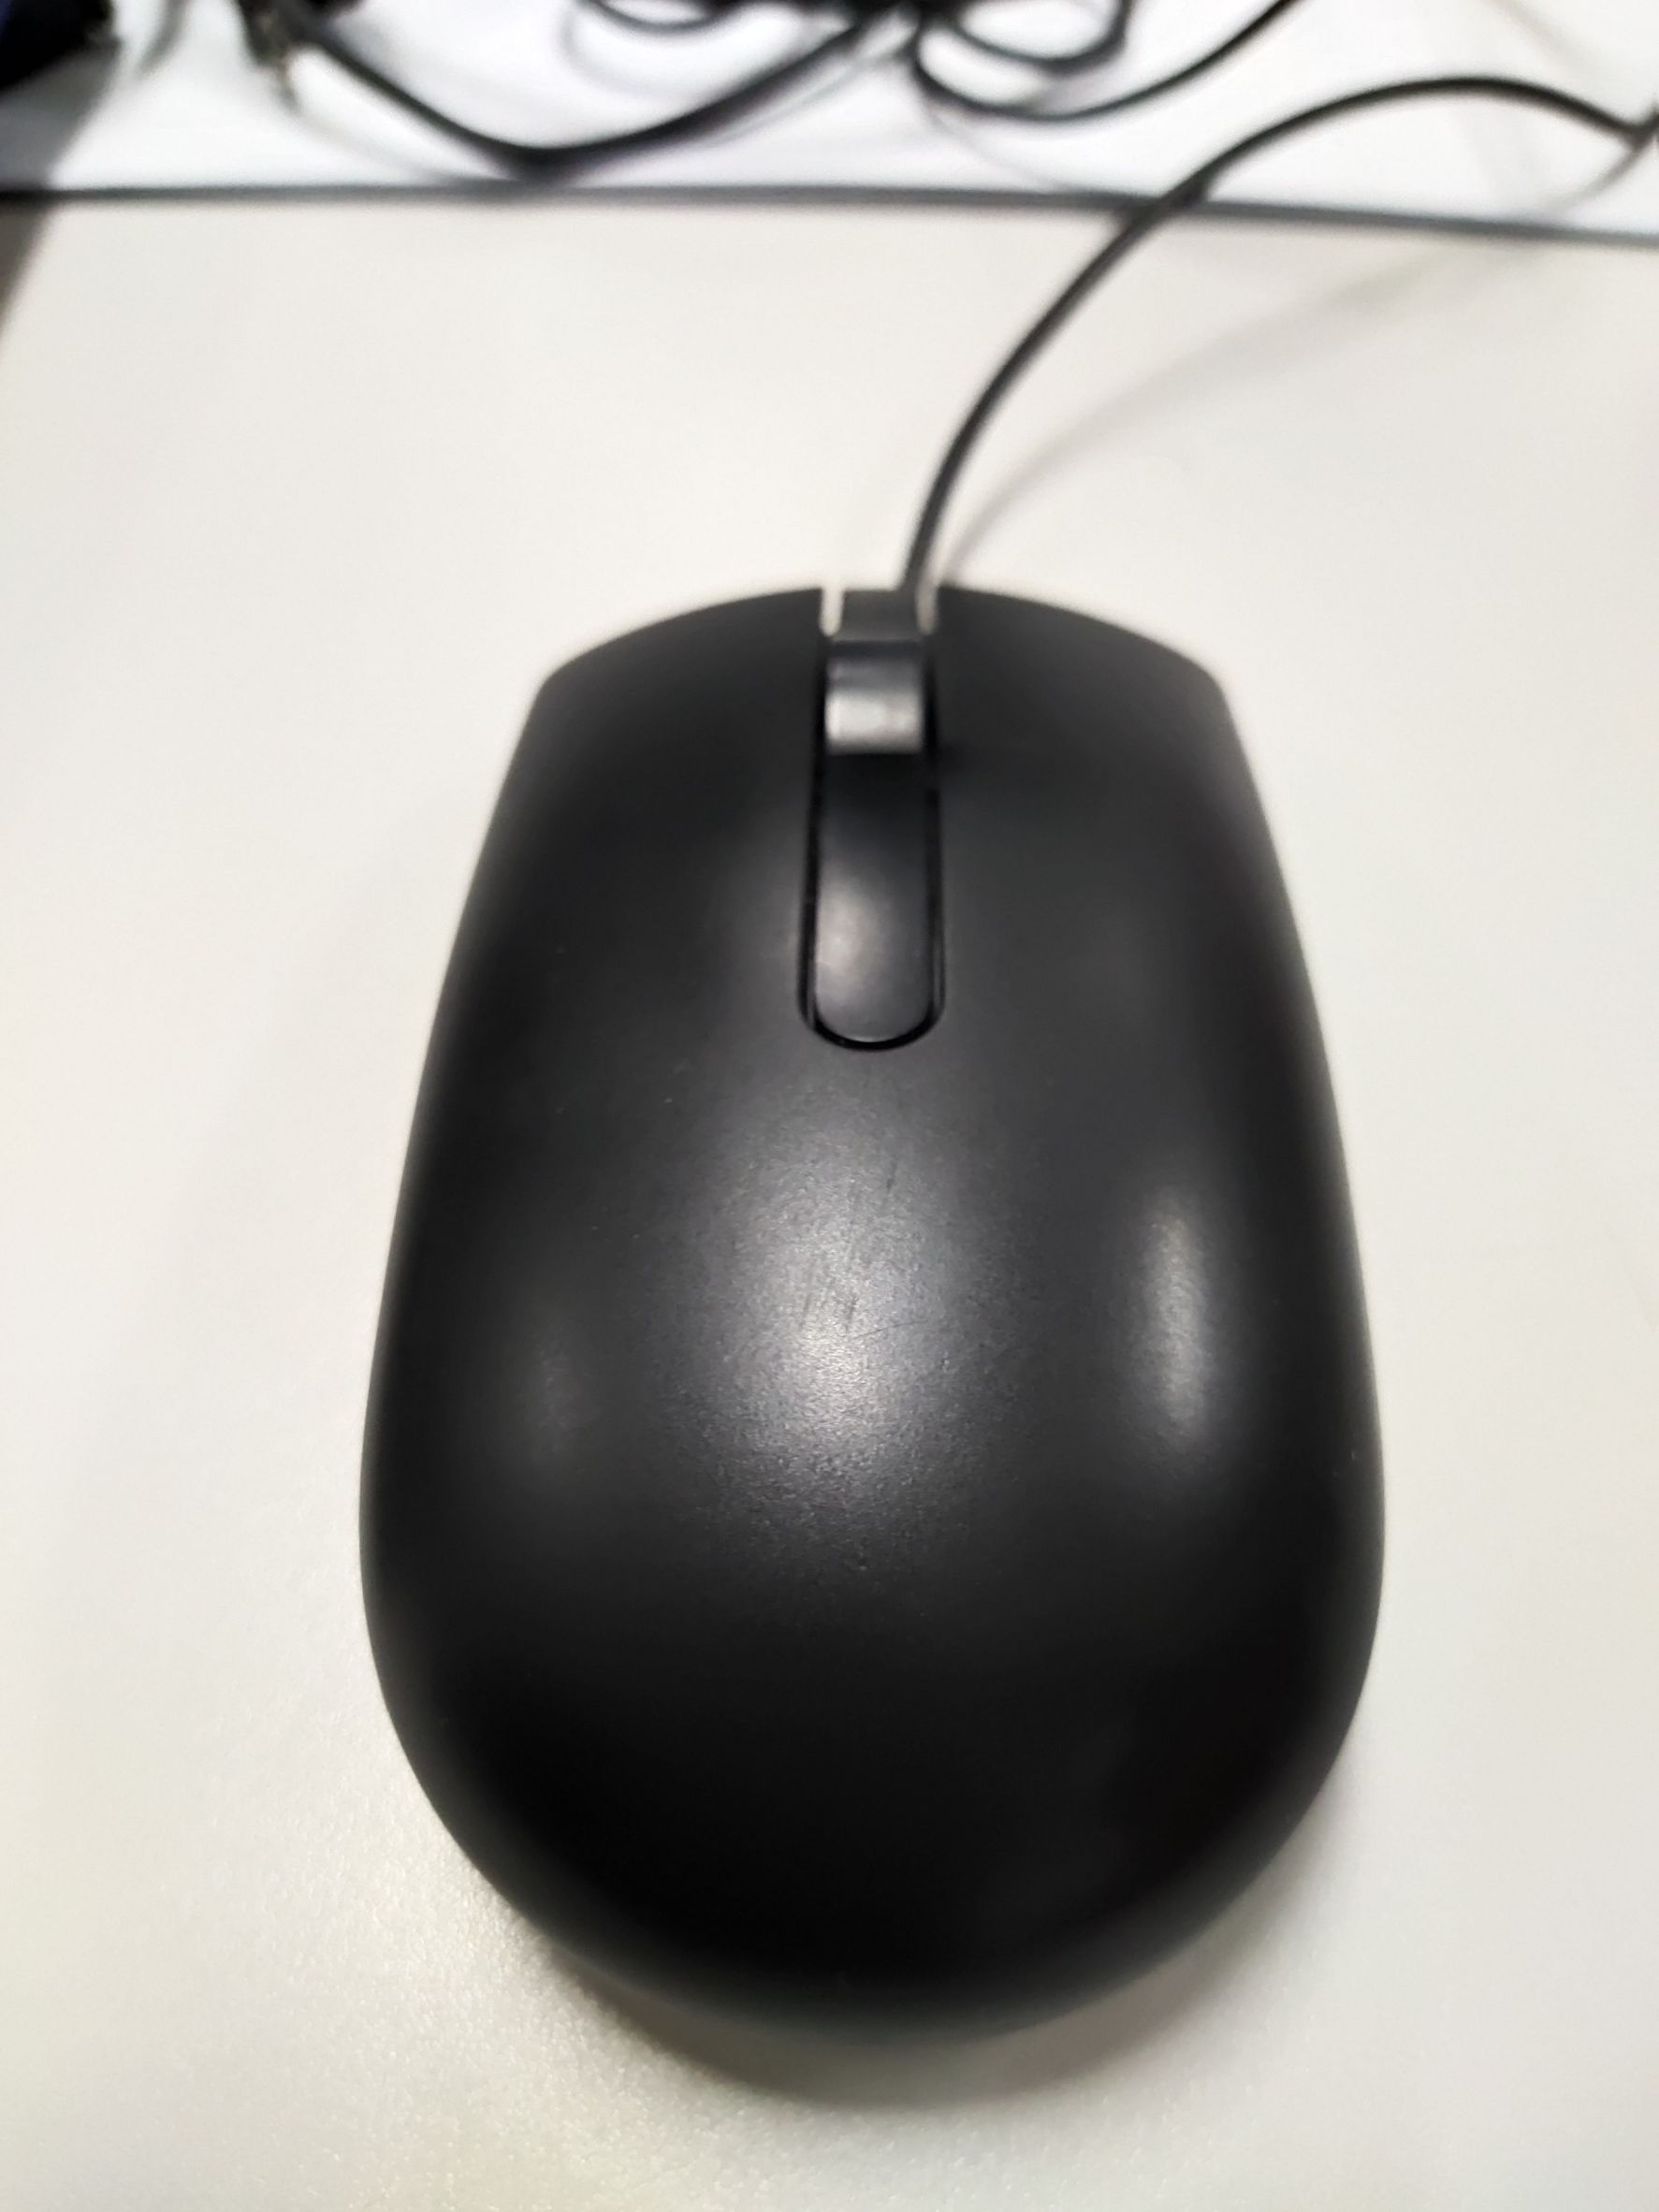mouse: (268, 502, 1457, 2141)
